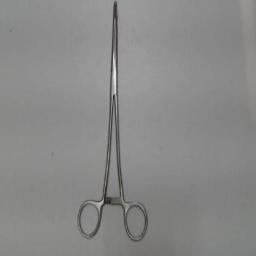Lahey Forceps: (72, 0, 152, 248)
